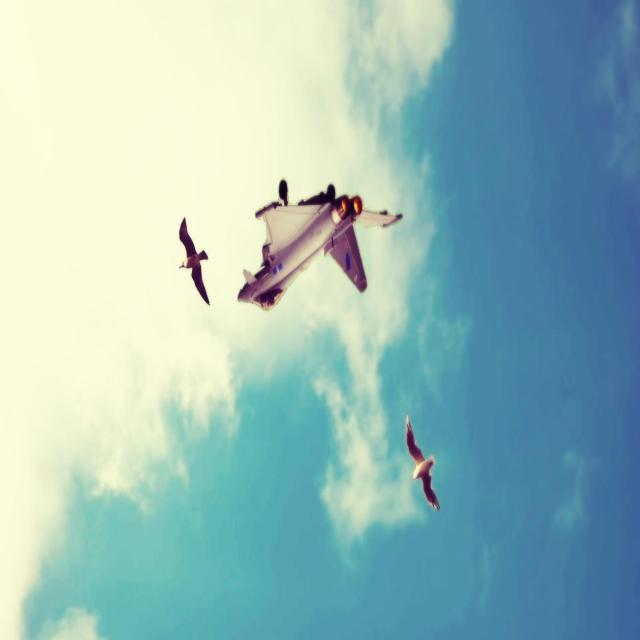airplane: (236, 178, 402, 311)
